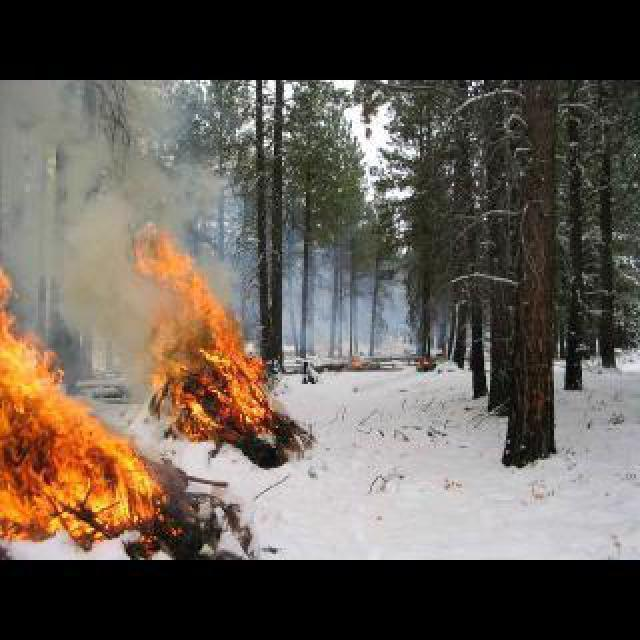Fire: (2, 238, 258, 538)
